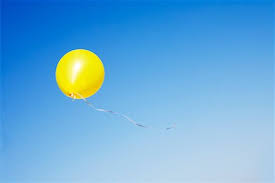Balloon: (55, 49, 105, 99)
